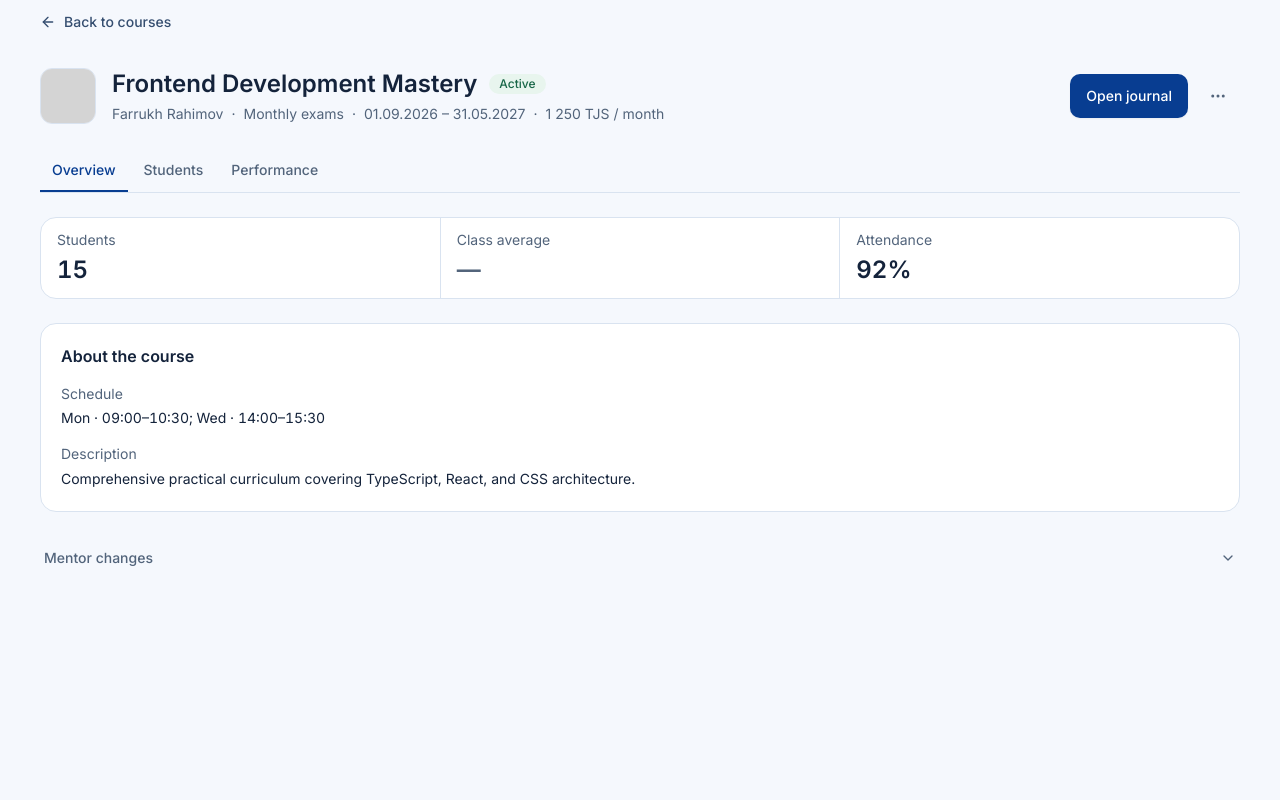
Test: CourseProfile Component › Schedule and History Independent States › lazily fetches mentor history only when disclosure is opened
The width and height of the screenshot is (1280, 800).
Click the button with aria-label "Mentor assignment history": (98, 557) [40, 536, 1240, 580]
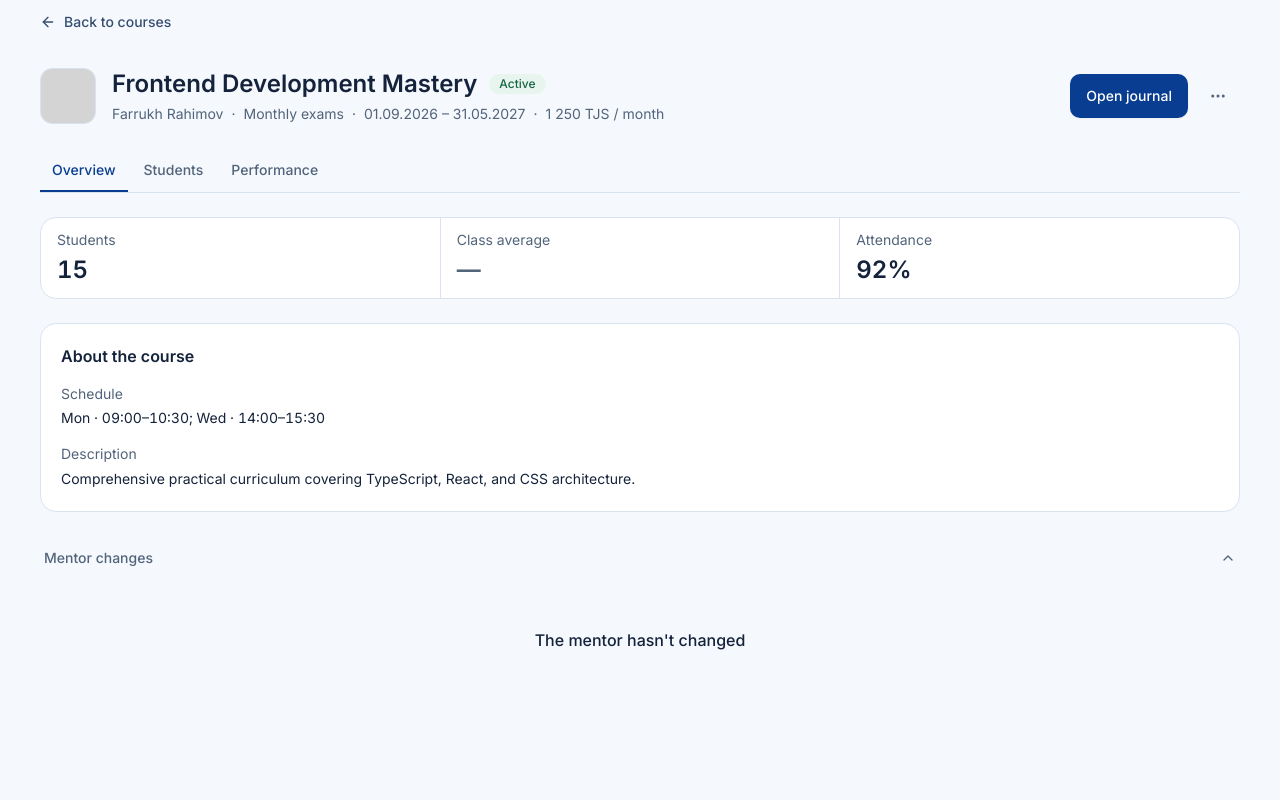
expect the button with aria-label "Mentor assignment history" is expanded: met, box [40, 536, 1240, 580]
